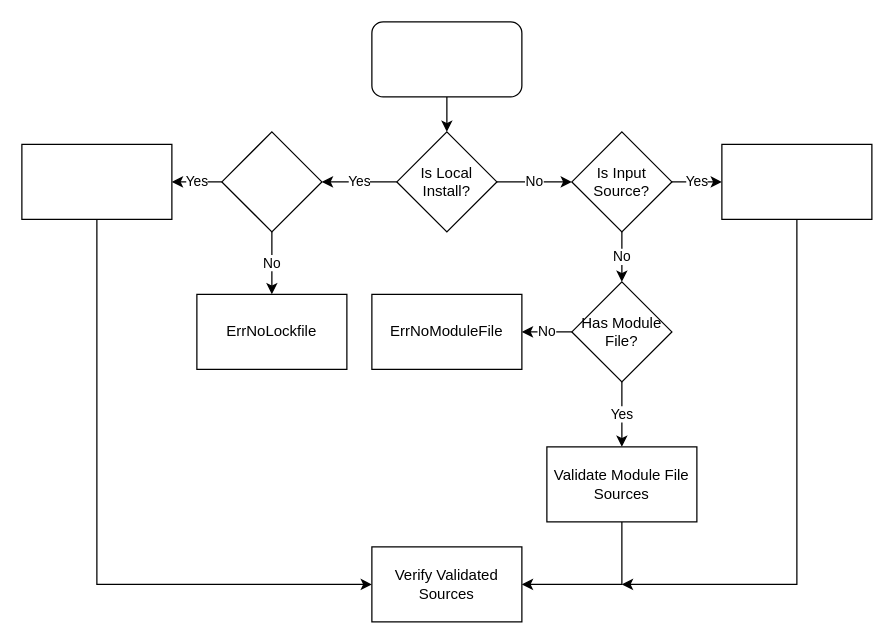
Image size: 894x644. Some labels were removed from this diagram. The centre of each missing label's shape, as x and y in pixels:
Has Lockfile?: the point at 271,181
Start Install: the point at 446,59
Validate Input Source: the point at 796,181
Validate Lockfile Sources: the point at 96,181
